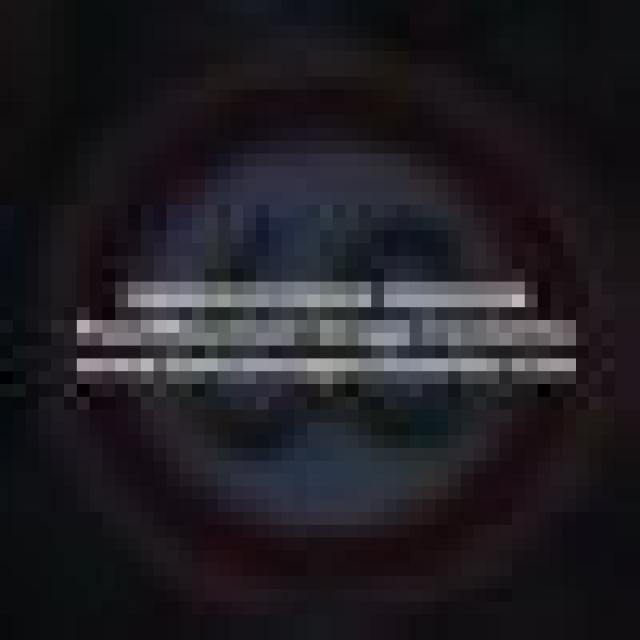SPEED_LIMIT_60: (77, 77, 576, 563)
